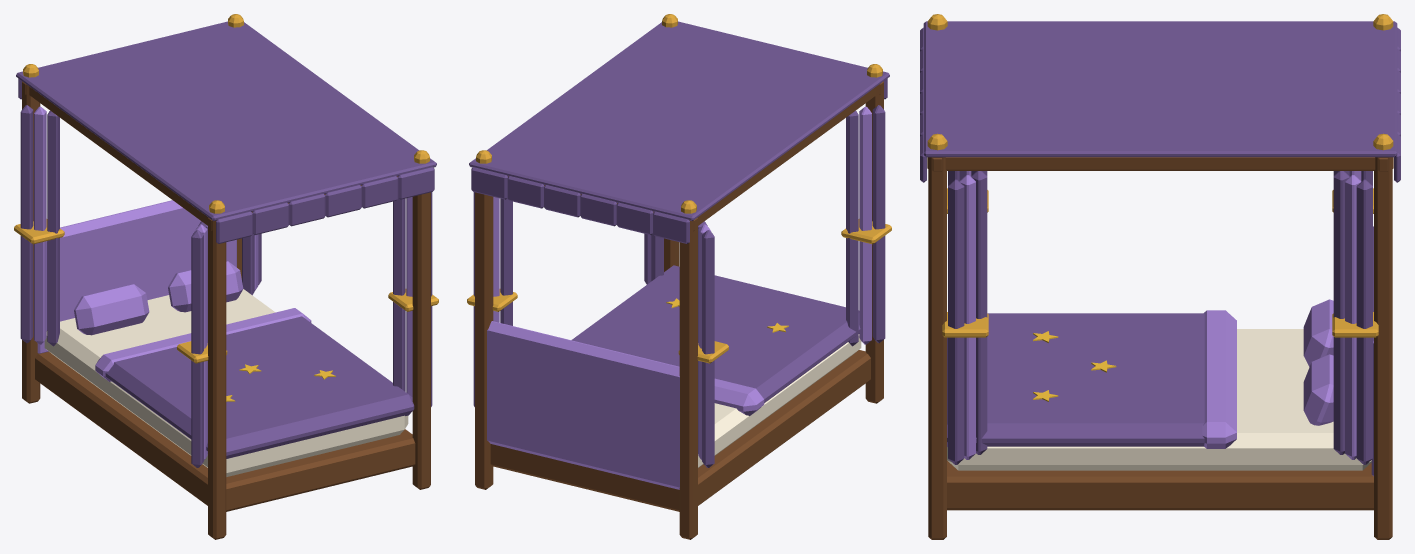
Rendered from canopy_bed.glb.
3 views of the same model, side by side, from view 1: azimuth 30°, elevation 25°; view 2: azimuth 150°, elevation 25°; view 3: azimuth 270°, elevation 25° (orthographic). The views are drawn at different scales.
Parts seen in each view (by area): view 1: canopy_bed, part_drape_lb, part_drape_rf, part_drape_lf, part_drape_rb; view 2: canopy_bed, part_drape_lf, part_drape_lb, part_drape_rb, part_drape_rf; view 3: canopy_bed, part_drape_rb, part_drape_rf.
Part boxes in pixels (x1,y1,x2,y2): canopy_bed: [16, 14, 436, 539]; part_drape_lb: [14, 105, 64, 346]; part_drape_rf: [388, 192, 438, 406]; part_drape_lf: [177, 221, 227, 467]; part_drape_rb: [242, 233, 261, 295]; canopy_bed: [469, 14, 889, 539]; part_drape_lf: [841, 105, 891, 346]; part_drape_lb: [678, 221, 728, 467]; part_drape_rb: [467, 192, 517, 406]; part_drape_rf: [644, 233, 663, 284]; canopy_bed: [920, 14, 1400, 539]; part_drape_rb: [1332, 171, 1378, 464]; part_drape_rf: [942, 171, 988, 464].
Bounding box in the file's own units: 1.46 × 1.91 × 2.07.
